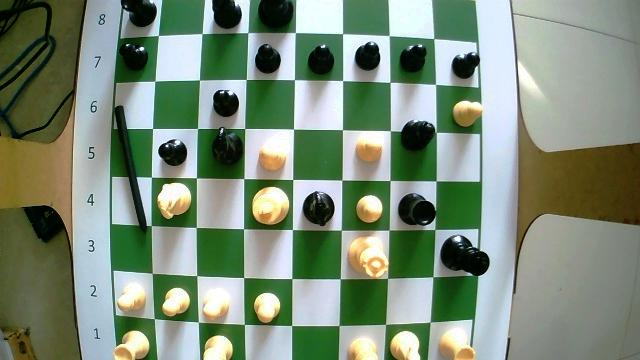piece: (441, 236, 488, 275), (350, 236, 388, 277), (251, 187, 288, 223), (398, 193, 434, 225), (157, 183, 189, 218), (303, 192, 333, 225), (213, 127, 241, 162), (402, 121, 435, 150), (440, 331, 473, 359), (115, 332, 148, 359), (122, 0, 156, 26), (161, 288, 189, 316), (390, 332, 419, 359), (260, 0, 290, 26), (307, 45, 334, 73), (253, 293, 279, 322), (212, 0, 239, 27), (202, 291, 229, 318), (356, 195, 382, 223), (452, 52, 479, 78), (159, 140, 187, 165), (256, 44, 280, 73), (202, 336, 232, 359), (117, 285, 145, 309), (120, 45, 148, 69), (452, 102, 479, 126), (355, 42, 378, 70), (214, 90, 238, 116), (400, 45, 426, 69), (349, 338, 378, 359), (260, 146, 285, 170), (355, 139, 379, 162)
